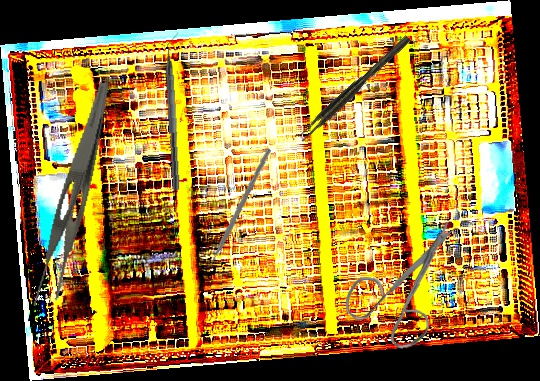Chopper: (188, 149, 281, 269), (161, 30, 191, 192)
Dressing Forceps: (28, 76, 112, 313)
Iris Scissors: (343, 218, 461, 351)
Tissue Forceps: (295, 35, 415, 143)
